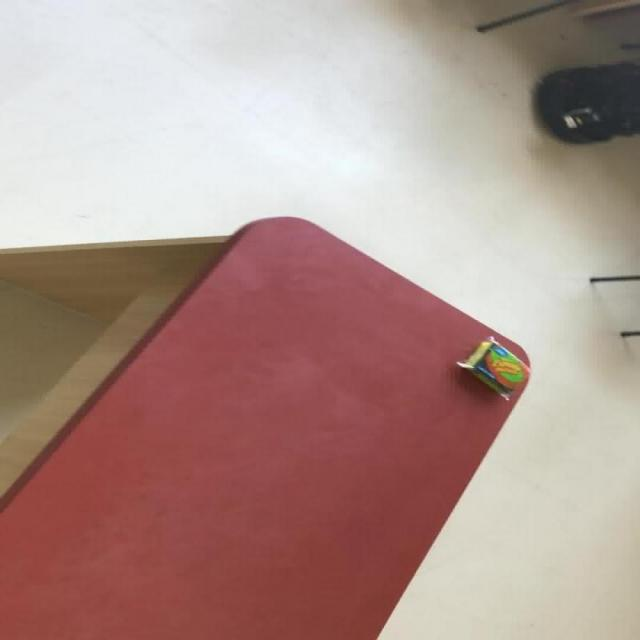Sponge: (454, 336, 530, 400)
